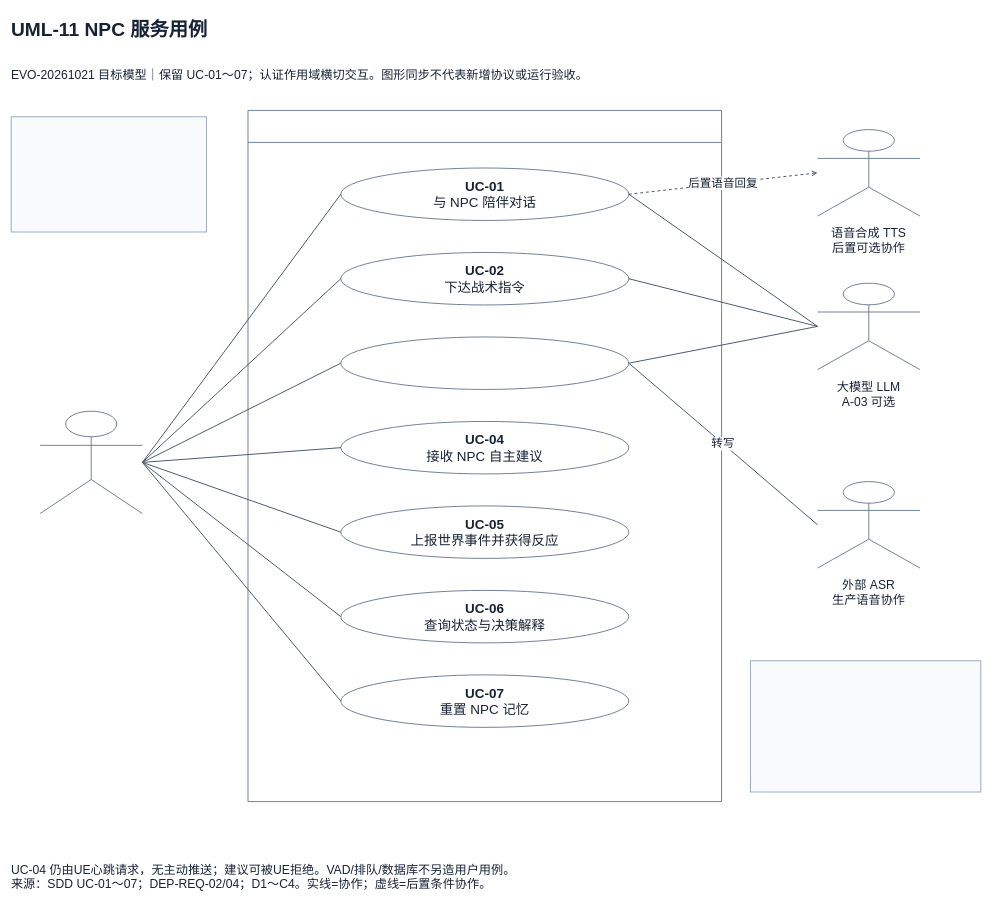
Some shapes in this 995 by 924 pixel diagram are drawn without their labels. Here are the shapes that lost their labels. From the top down, the box of each, then its label:
(10, 116, 207, 232): 玩家 A-01 是目标属主 输入经UE提交；查询/重置可由获授权调试工具调用，不表示新增游戏内按钮。
(340, 336, 629, 390): UC-03 以语音下达指令
(39, 410, 143, 514): UE/调试客户端 A-02 世界执行权威
(247, 110, 722, 802): Aesir AI Service 远程 NPC 子系统
(750, 660, 981, 792): 前置与异常 认证后验证存档归属；记忆/关系/缓存/限流按玩家与存档隔离。 ASR失败保留文本；临时转写不执行。
